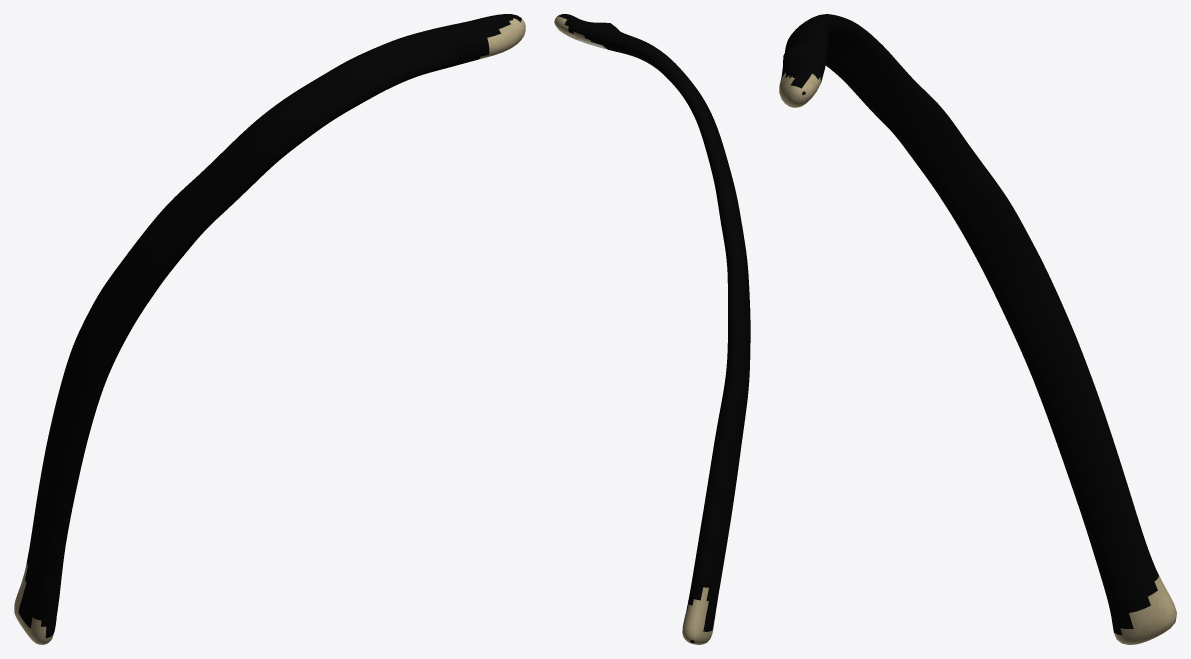
Rendered from Rib R07.fbx.
The picture shows the model from 3 angles, left to right: view 1: azimuth 30°, elevation 25°; view 2: azimuth 150°, elevation 25°; view 3: azimuth 270°, elevation 25°; orthographic projection. The views are drawn at different scales.
Visible parts, largest first — view 1: Rib R07; view 2: Rib R07; view 3: Rib R07.
Boxes of the visible parts, <box> form: Rib R07: <box>14,14,525,644</box>; Rib R07: <box>554,14,750,644</box>; Rib R07: <box>779,14,1176,644</box>.
Size of the model in its own units: 14.3 by 25.16 by 12.09.
